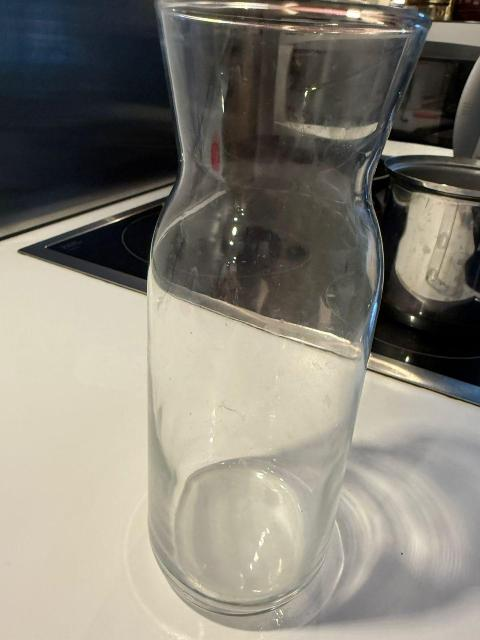Cam: (139, 0, 400, 620)
